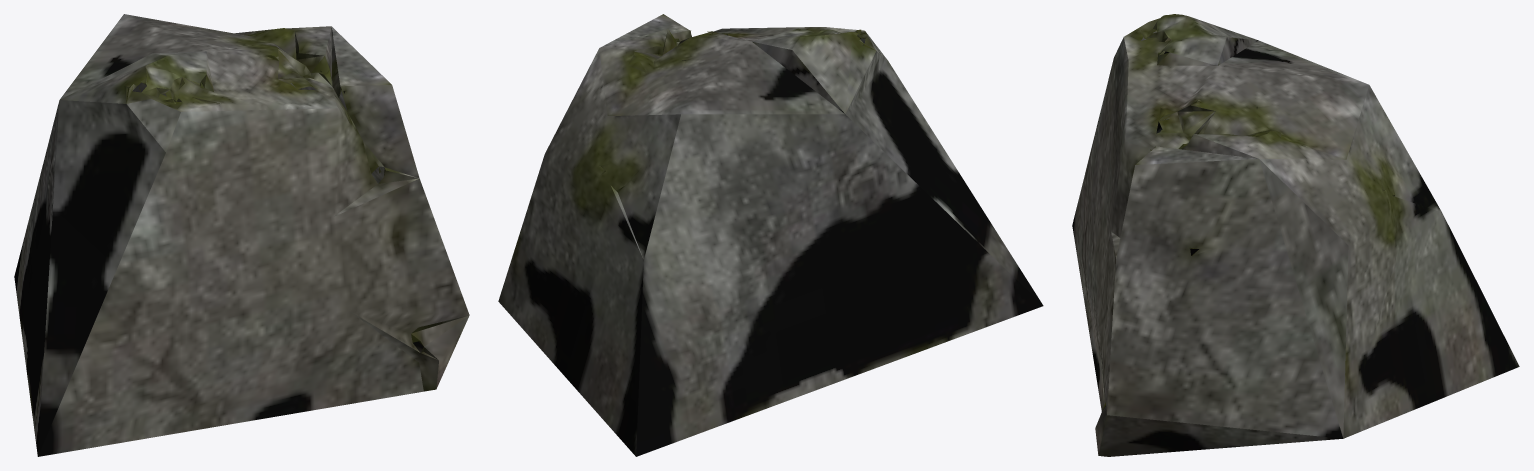
Rendered from stone-b-lod1.glb.
3 renders of one model, left to right at view 1: azimuth 30°, elevation 25°; view 2: azimuth 150°, elevation 25°; view 3: azimuth 270°, elevation 25°, orthographic. The views are drawn at different scales.
Parts seen in each view (by area): view 1: stone-b-lod1; view 2: stone-b-lod1; view 3: stone-b-lod1.
Part boxes in pixels (x1=…): stone-b-lod1: x1=14, y1=14, x2=469, y2=456; stone-b-lod1: x1=498, y1=14, x2=1043, y2=456; stone-b-lod1: x1=1072, y1=14, x2=1519, y2=456.
Bounding box in the file's own units: 2.65 × 1.94 × 2.37.
Materials: 1 (1 with a texture image).
